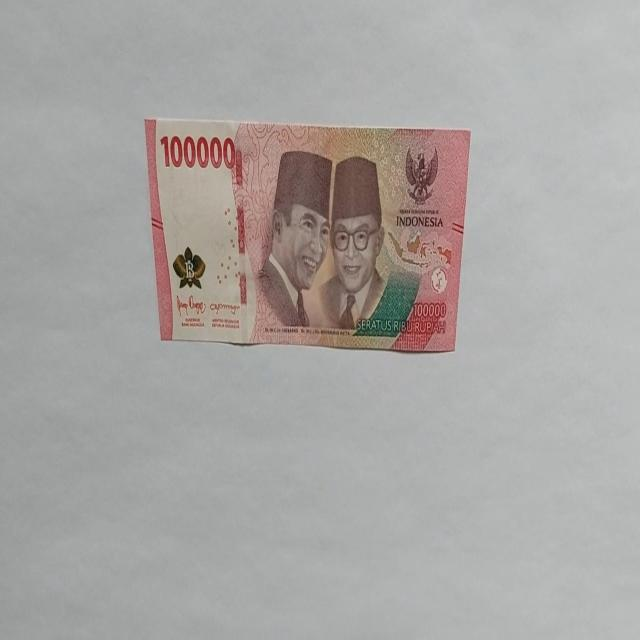seratus ribu rupiah: (144, 116, 472, 354), (255, 148, 332, 336)
